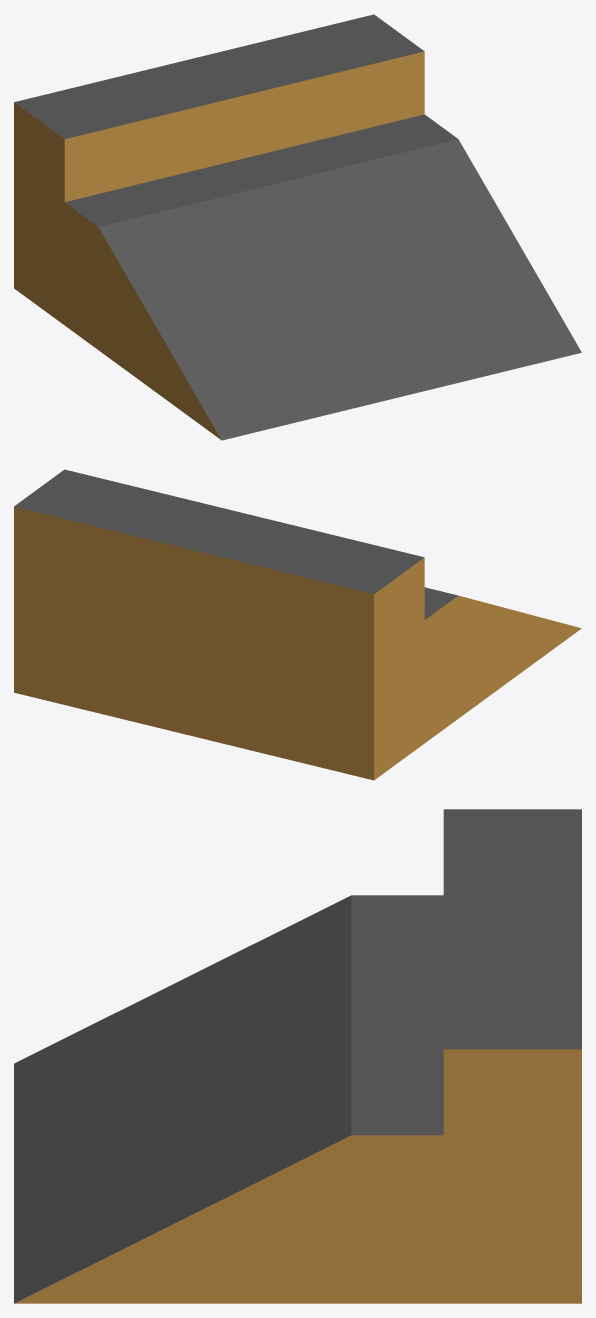
The model's file is Skate_Wedge_w_Back_01.FBX.
The picture shows the model from 3 angles, top to bottom: view 1: azimuth 30°, elevation 25°; view 2: azimuth 150°, elevation 25°; view 3: azimuth 270°, elevation 25°; orthographic projection. The views are drawn at different scales.
Parts seen in each view (by area): view 1: Skate_Wedge_w_Back_01; view 2: Skate_Wedge_w_Back_01; view 3: Skate_Wedge_w_Back_01.
Part boxes in pixels (x1,y1,x2,y2): Skate_Wedge_w_Back_01: (14,14,581,440); Skate_Wedge_w_Back_01: (14,469,581,780); Skate_Wedge_w_Back_01: (14,809,581,1303).
Bounding box in the file's own units: 3000 × 1482 × 3000.
